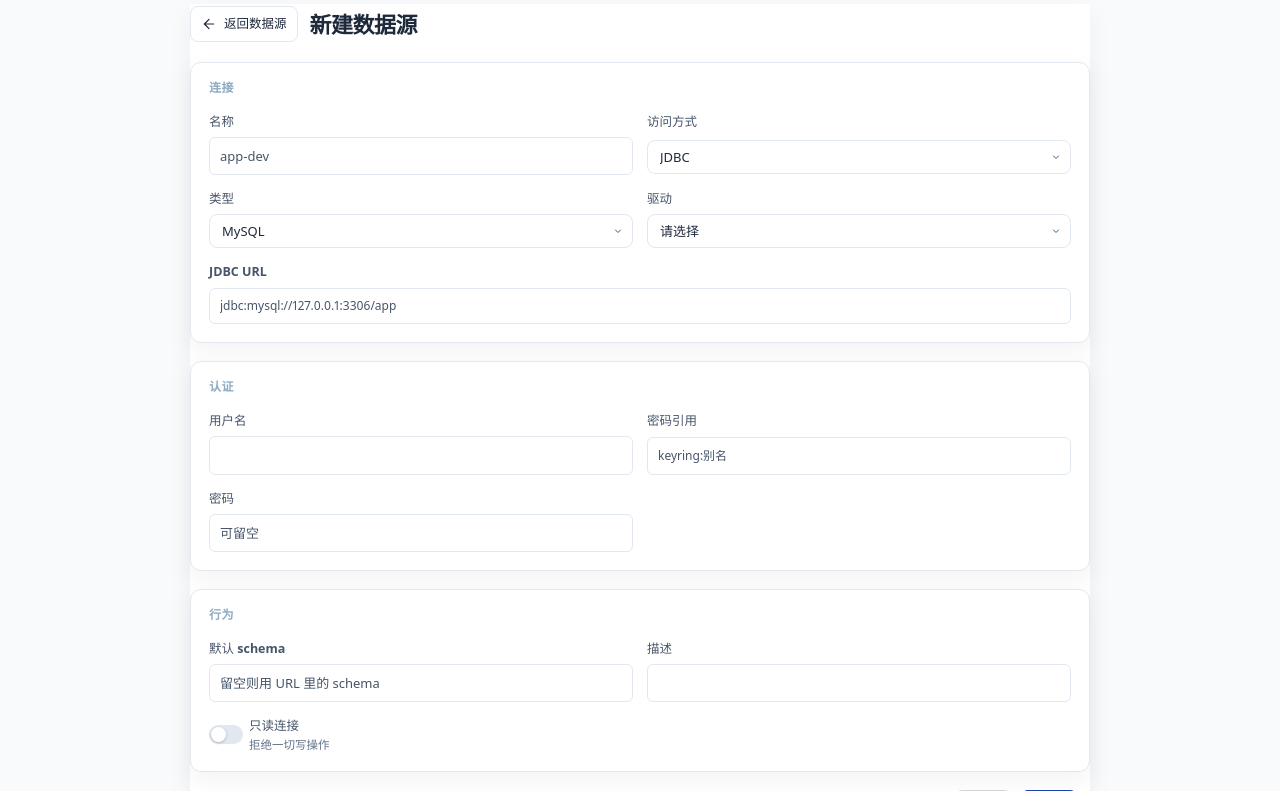
Test: 点击浏览打开服务端目录选择器，点目录进入下一级，点文件回填路径并关闭选择器
Select "SQLite" in the dropdown labelled "类型" at (421, 232), box [209, 214, 633, 248]
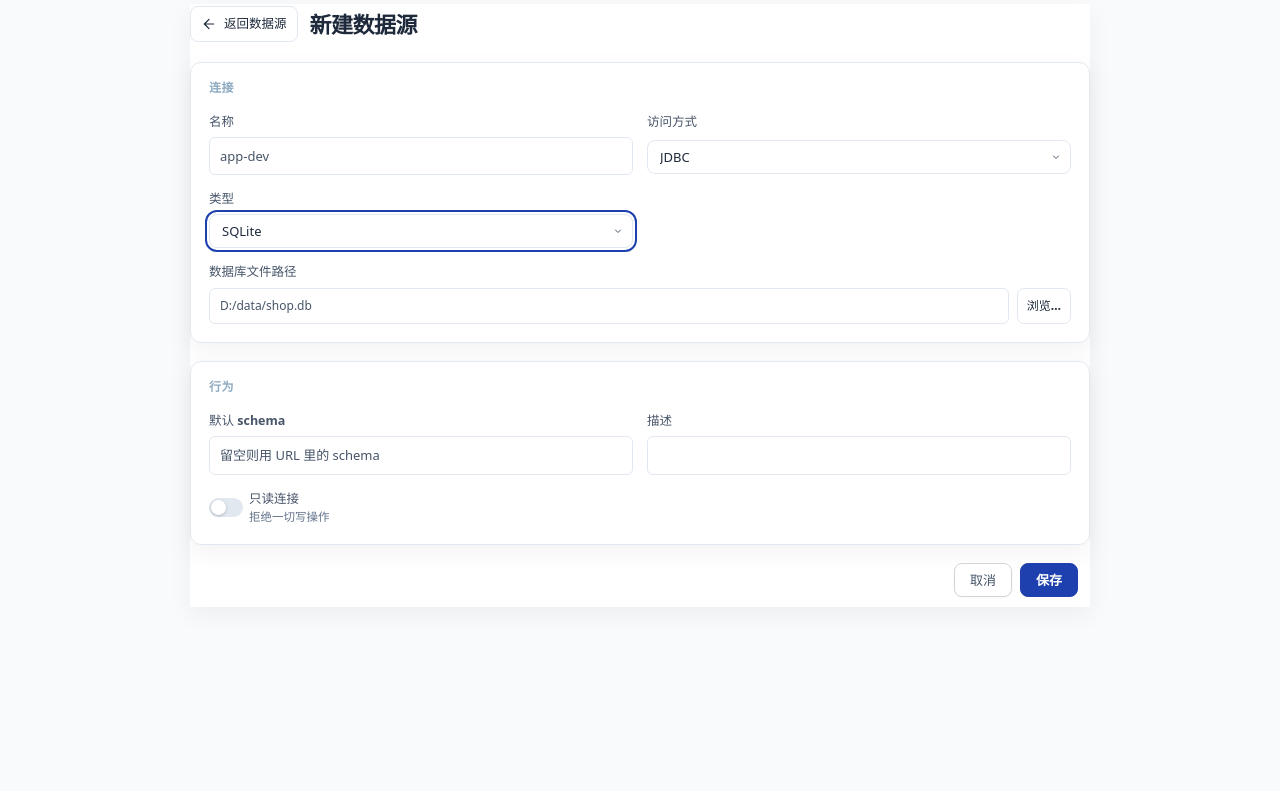
Click the button "浏览…".
click(1044, 306)  # box [1017, 288, 1071, 324]
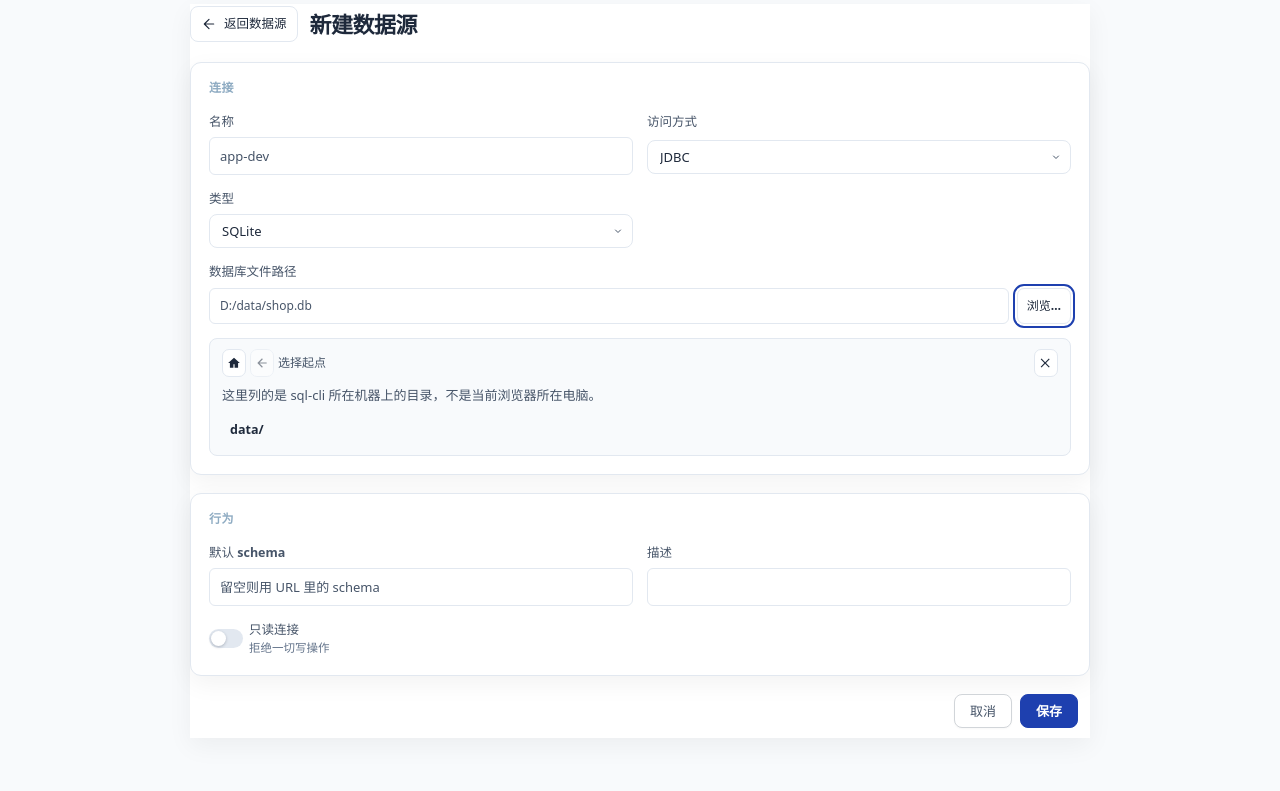
Result: the button "data/" is shown
Click the button "data/".
click(244, 429)  # box [222, 414, 1058, 445]
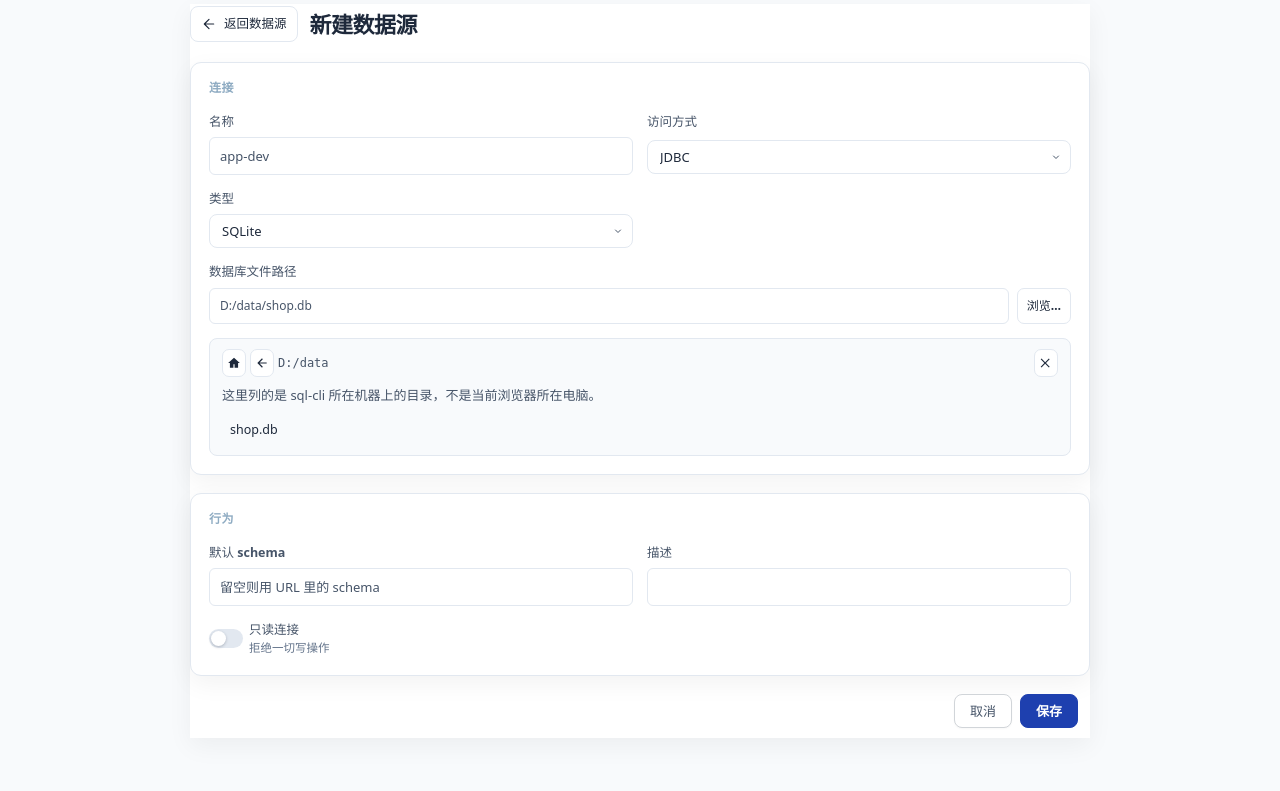
Click the button "shop.db".
click(254, 429)  # box [222, 414, 1058, 445]
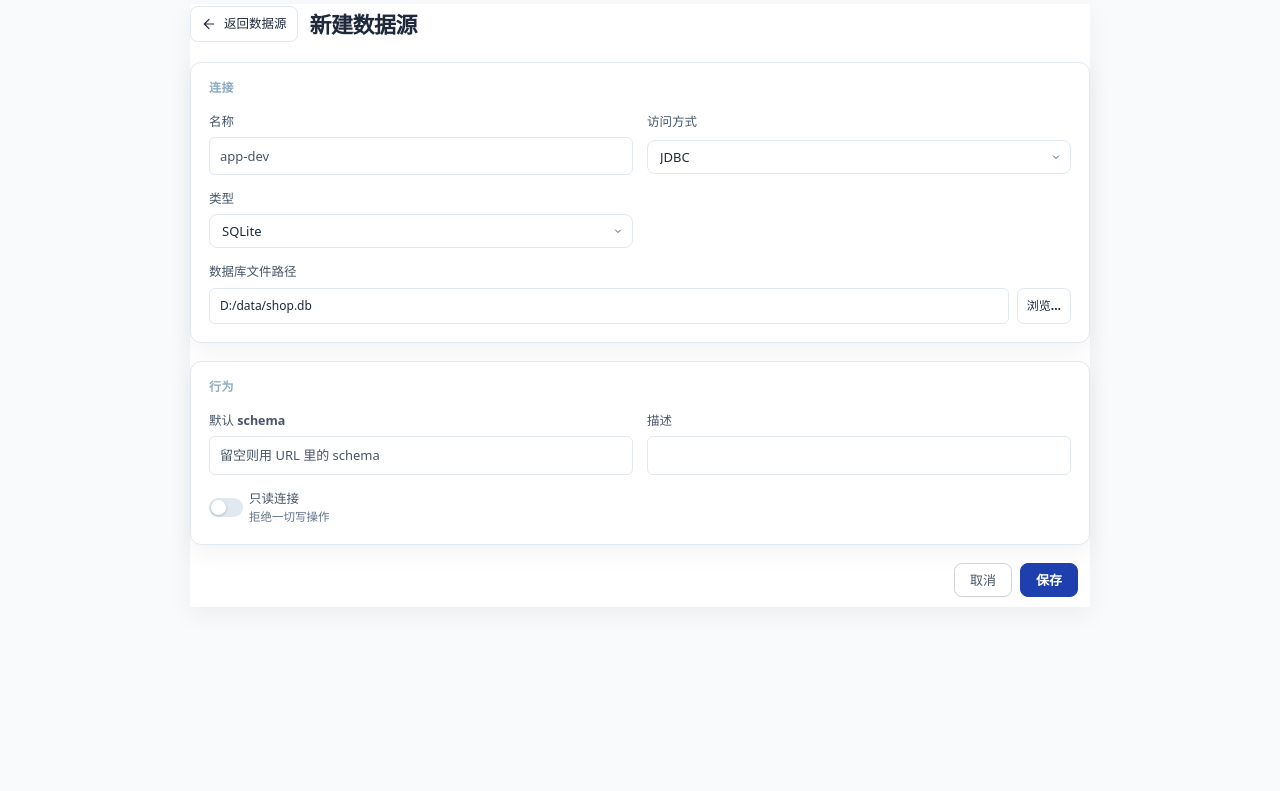
Result: the field labelled "数据库文件路径" holds "D:/data/shop.db" at [209, 288, 1009, 324]
Result: the element "选择数据库文件" is gone
